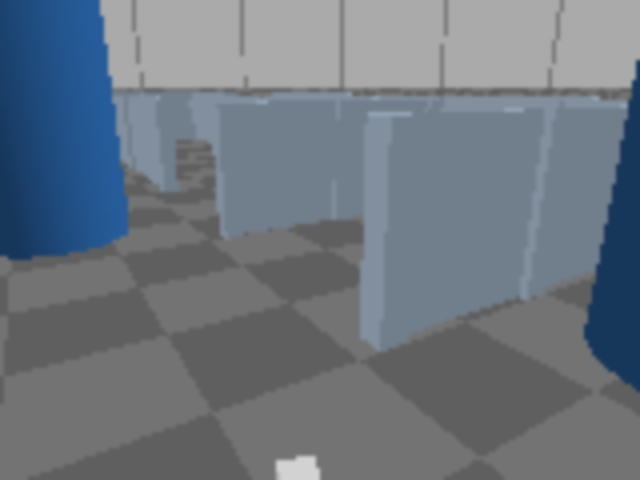person: (600, 0, 638, 437)
puck: (276, 455, 323, 478)
